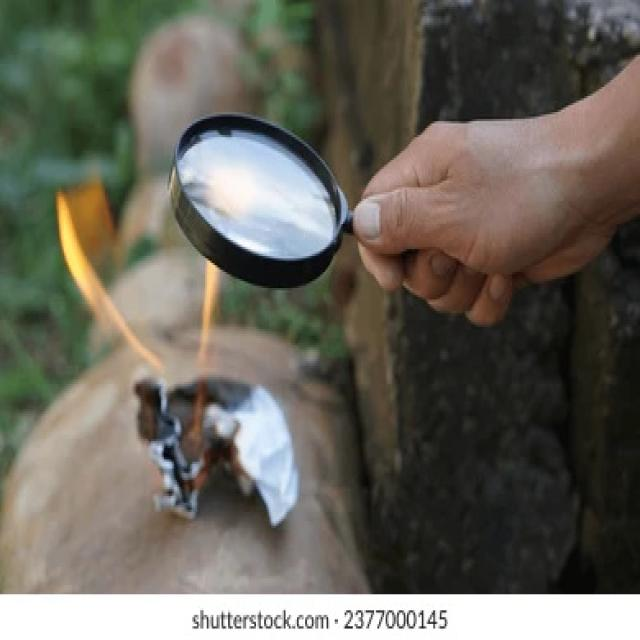fire: (56, 178, 166, 378), (193, 261, 220, 418), (182, 416, 212, 491)
